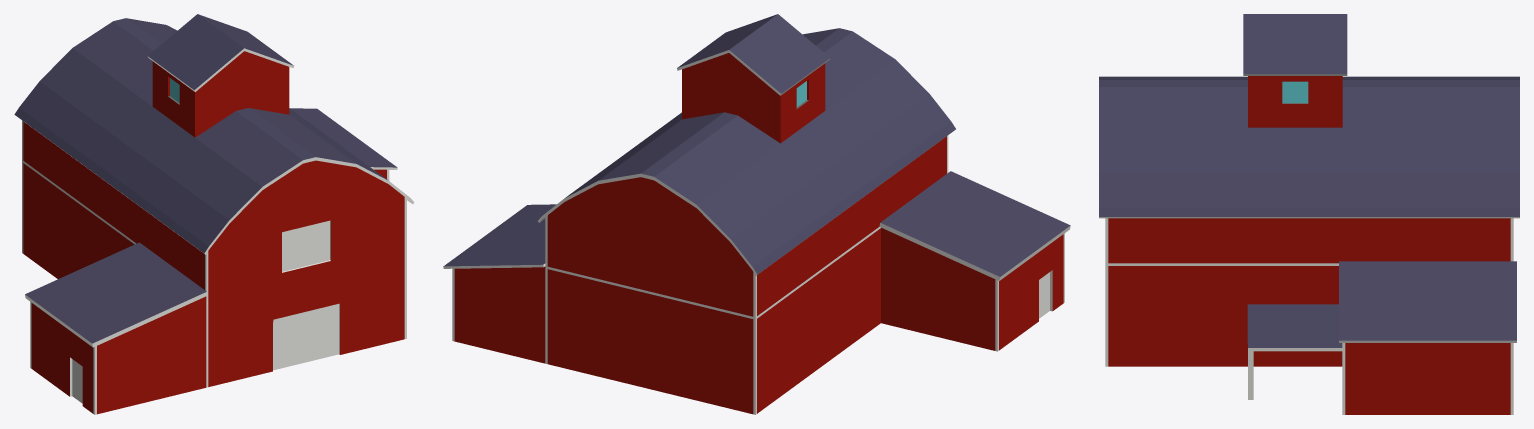
The model's file is Farmi_EläinNavetta.fbx.
3 renders of one model, left to right at view 1: azimuth 30°, elevation 25°; view 2: azimuth 150°, elevation 25°; view 3: azimuth 270°, elevation 25°, orthographic. The views are drawn at different scales.
Visible parts, largest first — view 1: EläinNavetta_Leveä; view 2: EläinNavetta_Leveä; view 3: EläinNavetta_Leveä.
Boxes of the visible parts, left/top/right/bottom form: EläinNavetta_Leveä: left=14, top=14, right=414, bottom=414; EläinNavetta_Leveä: left=443, top=14, right=1070, bottom=414; EläinNavetta_Leveä: left=1099, top=14, right=1519, bottom=414.
Bounding box in the file's own units: 1849 × 1154 × 1475.
